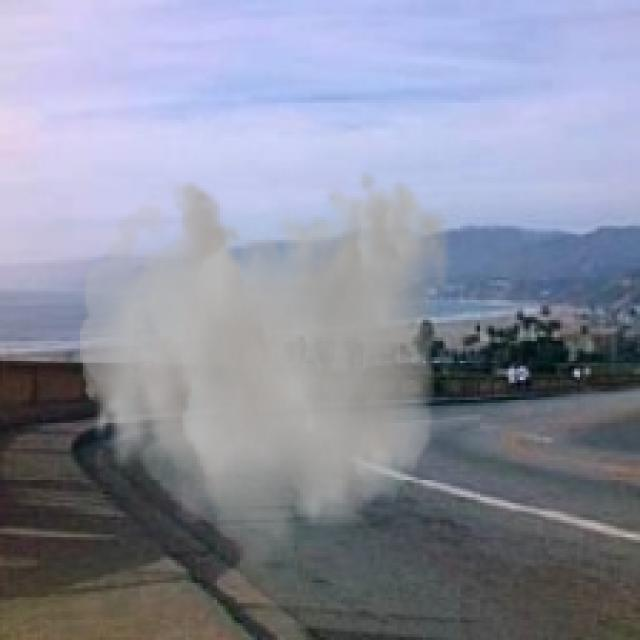Smoke: (80, 168, 452, 583)
